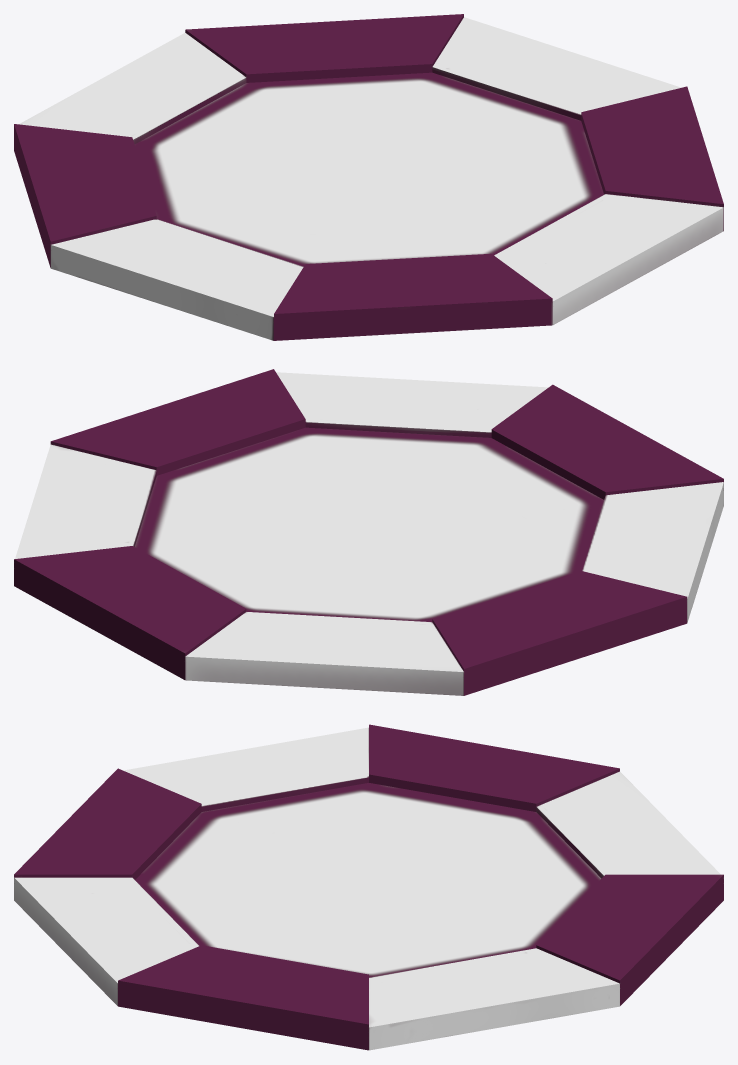
Rendered from PokerChip2.fbx.
3 renders of one model, top to bottom at view 1: azimuth 30°, elevation 25°; view 2: azimuth 150°, elevation 25°; view 3: azimuth 270°, elevation 25°, orthographic. The views are drawn at different scales.
Visible parts, largest first — view 1: pCylinder36; view 2: pCylinder36; view 3: pCylinder36.
Boxes of the visible parts, x1,y1,x2,y2 form: pCylinder36: (14, 14, 723, 340); pCylinder36: (14, 369, 723, 695); pCylinder36: (14, 724, 723, 1050).
Size of the model in its own units: 0.2751 by 0.0111 by 0.2751.
1 material, 1 textured.
